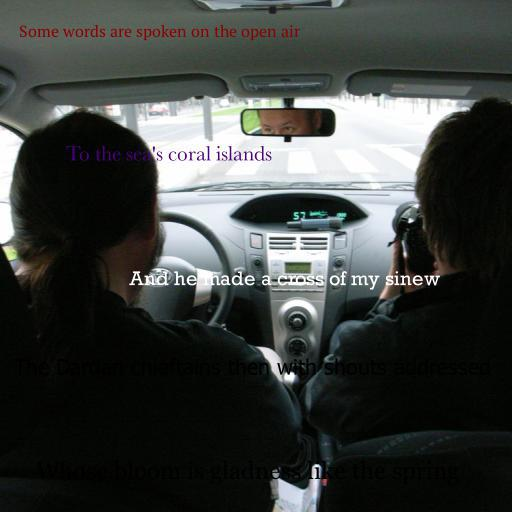Baskerville: (66, 146, 272, 161)
Georgia: (35, 460, 459, 485)
PT Serif: (18, 24, 300, 41)
Rockwell: (128, 271, 440, 290)
Tahoma: (13, 358, 491, 375)
